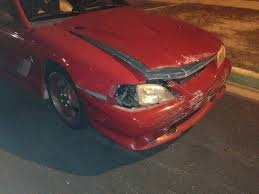Broken-glass: (116, 83, 170, 110)
Scratch: (175, 90, 208, 123)
Smashed: (68, 29, 231, 141)
